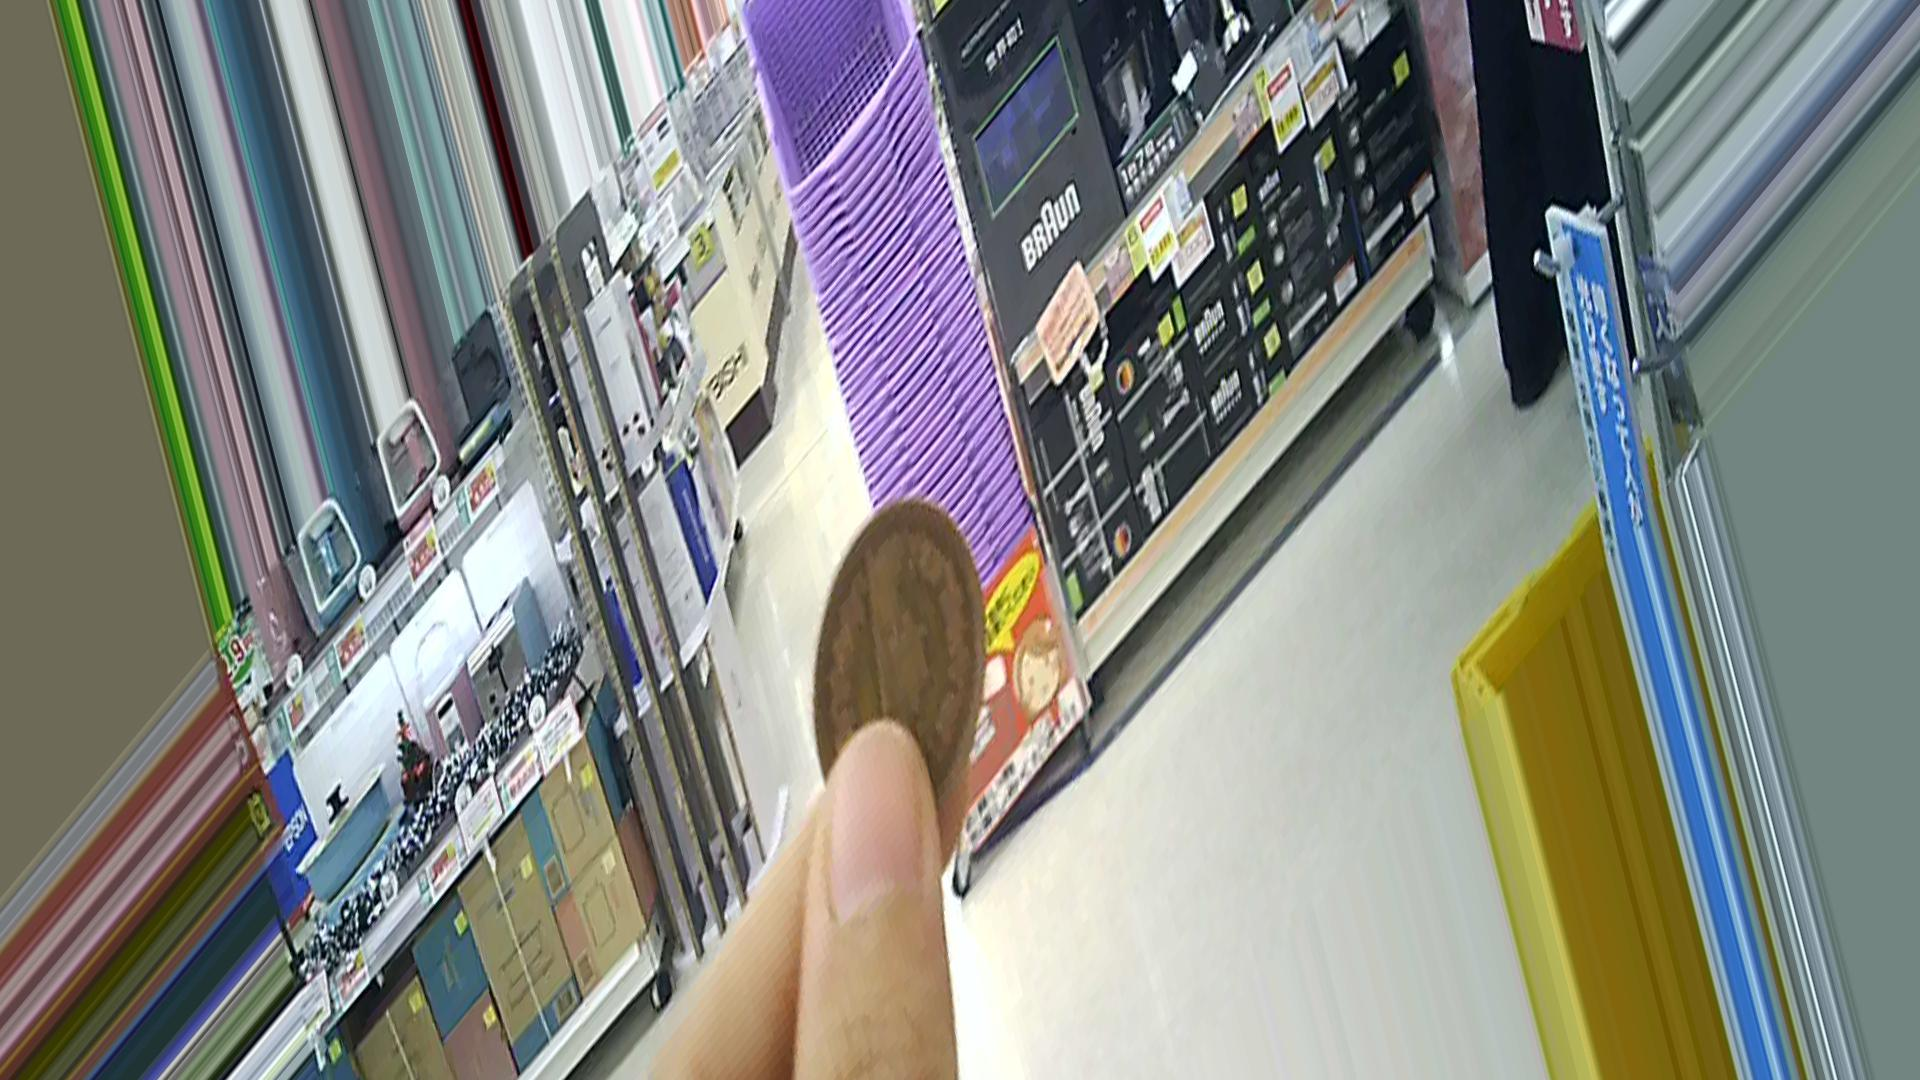10 Yen: (808, 501, 981, 794)
